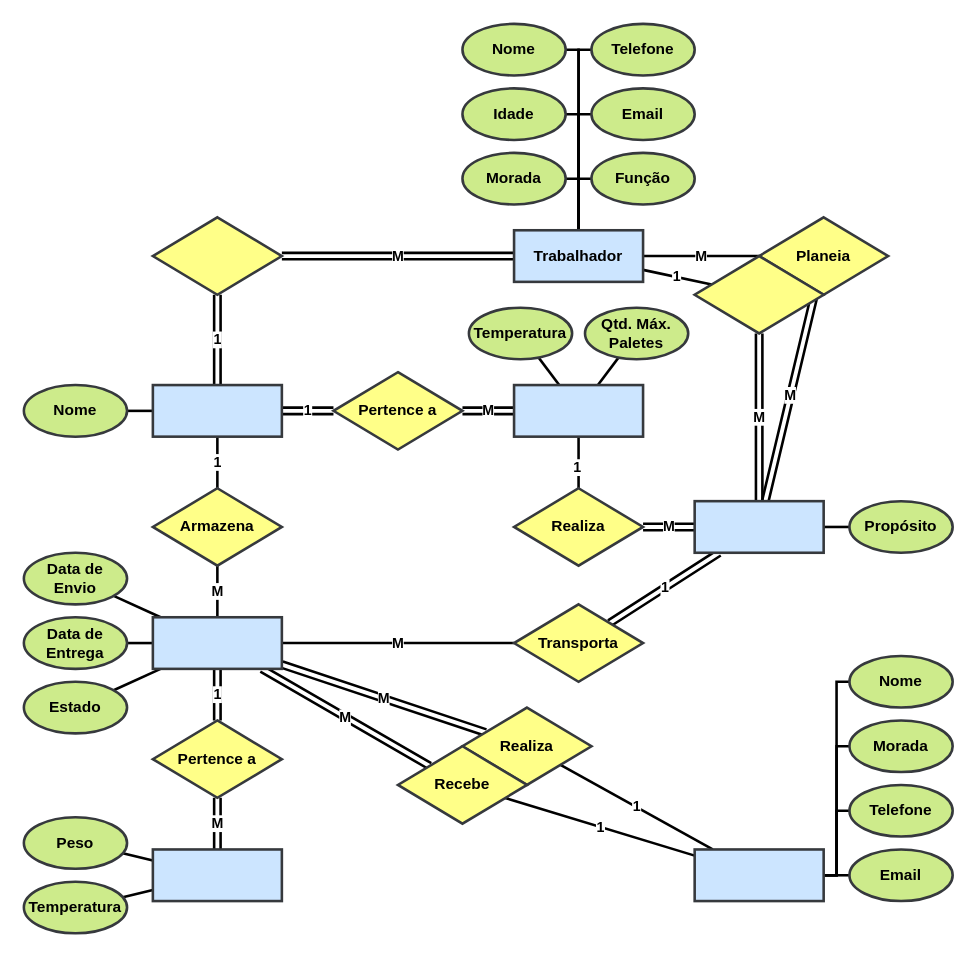
Some shapes in this 975 by 956 pixel diagram are drawn without their labels. The shapes that lost their labels are listed below. From the top down, each one's centre as x and y in pixels, then its label:
At [217,255]: "Trabalha".
At [758,294]: "Conduz".
At [217,410]: "Armazém".
At [578,410]: "Camião".
At [758,526]: "Rota".
At [217,642]: "Pedido".
At [217,875]: "Palete".
At [758,875]: "Cliente".
